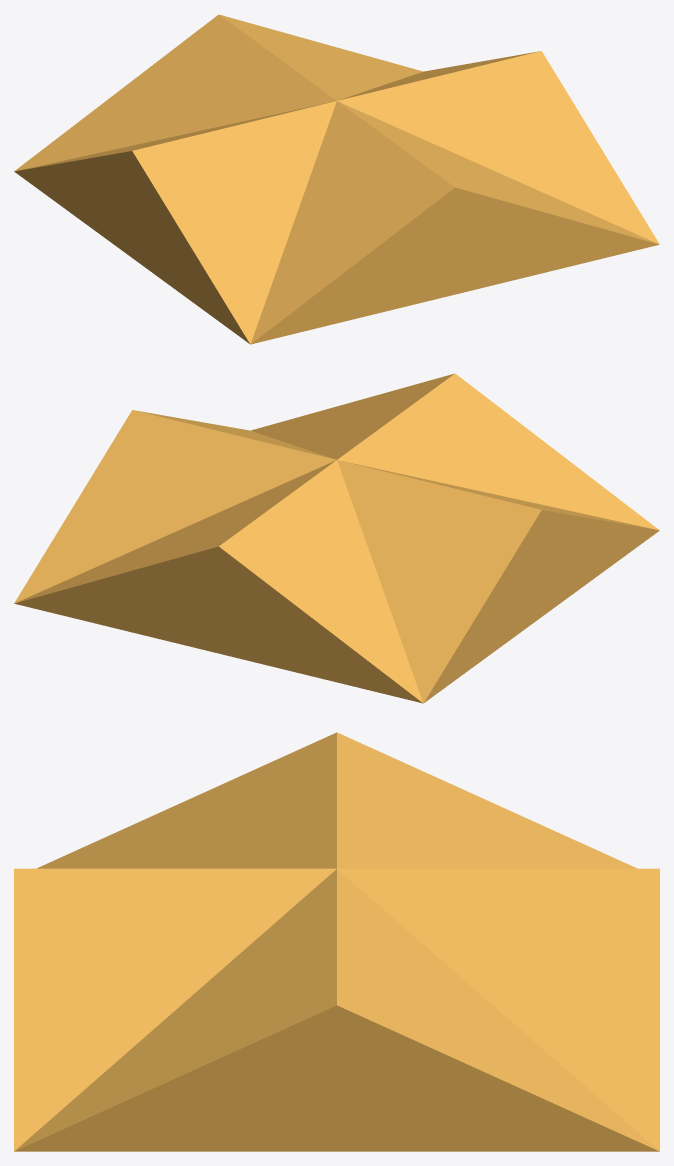
The model's file is Roof-Shallow-4x4x1-Gable-Cross.FBX.
3 views of the same model, one above another, from view 1: azimuth 30°, elevation 25°; view 2: azimuth 150°, elevation 25°; view 3: azimuth 270°, elevation 25° (orthographic). The views are drawn at different scales.
Visible parts, largest first — view 1: Roof-Shallow-4x4x1-Gable-Cross; view 2: Roof-Shallow-4x4x1-Gable-Cross; view 3: Roof-Shallow-4x4x1-Gable-Cross.
Boxes of the visible parts, x1,y1,x2,y2 form: Roof-Shallow-4x4x1-Gable-Cross: (14, 14, 659, 344); Roof-Shallow-4x4x1-Gable-Cross: (14, 373, 659, 703); Roof-Shallow-4x4x1-Gable-Cross: (14, 732, 659, 1151).
Bounding box in the file's own units: 40 × 40 × 10.
